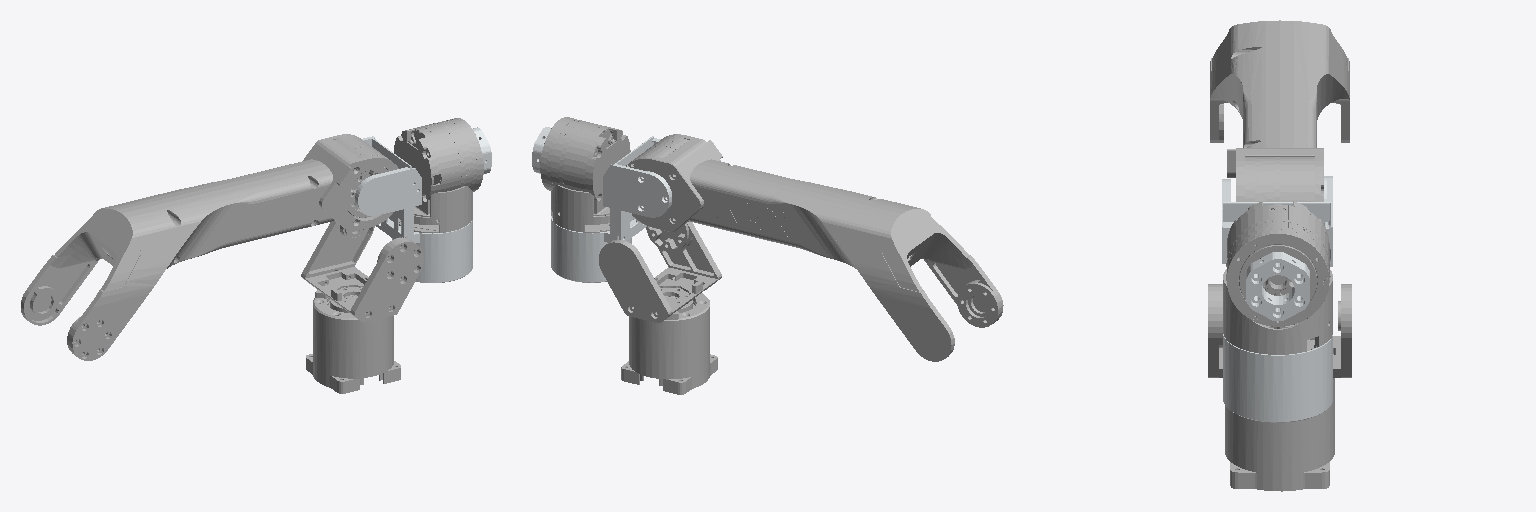
URDF robot description (ultron):
<?xml version="1.0" ?>
<!-- =================================================================================== -->
<!-- |    This document was autogenerated by xacro from ultron.xacro                   | -->
<!-- |    EDITING THIS FILE BY HAND IS NOT RECOMMENDED                                 | -->
<!-- =================================================================================== -->
<!-- This URDF was automatically created by SolidWorks to URDF Exporter! Originally created by
Stephen Brawner ([email redacted]) 
     Commit Version: 1.6.0-4-g7f85cfe  Build Version: 1.6.7995.38578
     For more information, please see http://wiki.ros.org/sw_urdf_exporter -->
<robot name="ultron">
  <!-- Used for fixing robot to Gazebo 'base_link' -->
  <link name="world"/>
  <joint name="fixed" type="fixed">
    <parent link="world"/>
    <child link="base_link"/>
  </joint>
  <!--base_link-->
  <link name="base_link">
    <inertial>
      <origin rpy="0 0 0" xyz="-2.9972E-05 3.056E-05 0.027301"/>
      <mass value="0.44038"/>
      <inertia ixx="0.00017" ixy="0.00000" ixz="0.00000" iyy="0.00018" iyz="0.00000" izz="0.00016"/>
    </inertial>
    <visual>
      <origin rpy="0 0 0" xyz="0 0 0"/>
      <geometry>
        <mesh filename="package://ultron/meshes/base_link.STL"/>
      </geometry>
      <material name="">
        <color rgba="0.75294 0.75294 0.75294 1"/>
      </material>
    </visual>
    <collision>
      <origin rpy="0 0 0" xyz="0 0 0"/>
      <geometry>
        <mesh filename="package://ultron/meshes/base_link.STL"/>
      </geometry>
    </collision>
  </link>
  <link name="link1">
    <inertial>
      <origin rpy="0 0 0" xyz="0.0060953 -0.0042968 0.017959"/>
      <mass value="0.060835"/>
      <inertia ixx="0.00008" ixy="0.00000" ixz="0.00001" iyy="0.00003" iyz="0.00000" izz="0.00007"/>
    </inertial>
    <visual>
      <origin rpy="0 0 0" xyz="0 0 0"/>
      <geometry>
        <mesh filename="package://ultron/meshes/link1.STL"/>
      </geometry>
      <material name="">
        <color rgba="0.75294 0.75294 0.75294 1"/>
      </material>
    </visual>
    <collision>
      <origin rpy="0 0 0" xyz="0 0 0"/>
      <geometry>
        <mesh filename="package://ultron/meshes/link1.STL"/>
      </geometry>
    </collision>
  </link>
  <joint name="joint1" type="revolute">
    <origin rpy="0 0 0" xyz="0 0 0.0603"/>
    <parent link="base_link"/>
    <child link="link1"/>
    <axis xyz="0 0 1"/>
    <limit effort="25.0" lower="-1.57" upper="1.57" velocity="10.0"/>
    <dynamics damping="0.1" friction="0.01"/>
  </joint>
  <link name="link2">
    <inertial>
      <origin rpy="0 0 0" xyz="-0.13238 0.0022038 0.00011179"/>
      <mass value="1.0733"/>
      <inertia ixx="0.00050" ixy="0.00000" ixz="-0.00004" iyy="0.01596" iyz="0.00000" izz="0.01602"/>
    </inertial>
    <visual>
      <origin rpy="0 0 0" xyz="0 0 0"/>
      <geometry>
        <mesh filename="package://ultron/meshes/link2.STL"/>
      </geometry>
      <material name="">
        <color rgba="0.75294 0.75294 0.75294 1"/>
      </material>
    </visual>
    <collision>
      <origin rpy="0 0 0" xyz="0 0 0"/>
      <geometry>
        <mesh filename="package://ultron/meshes/link2.STL"/>
      </geometry>
    </collision>
  </link>
  <joint name="joint2" type="revolute">
    <origin rpy="0 0 0" xyz="0.02 0 0.0402"/>
    <parent link="link1"/>
    <child link="link2"/>
    <axis xyz="0 1 0"/>
    <limit effort="25.0" lower="0." upper="3.14" velocity="10."/>
    <dynamics damping="0.1" friction="0.01"/>
  </joint>
  <link name="link3">
    <inertial>
      <origin rpy="0 0 0" xyz="0.1872 -0.00030568 -0.051483"/>
      <mass value="0.4994"/>
      <inertia ixx="0.00033" ixy="-0.00006" ixz="-0.00039" iyy="0.00387" iyz="0.00001" izz="0.00383"/>
    </inertial>
    <visual>
      <origin rpy="0 0 0" xyz="0 0 0"/>
      <geometry>
        <mesh filename="package://ultron/meshes/link3.STL"/>
      </geometry>
      <material name="">
        <color rgba="0.75294 0.75294 0.75294 1"/>
      </material>
    </visual>
    <collision>
      <origin rpy="0 0 0" xyz="0 0 0"/>
      <geometry>
        <mesh filename="package://ultron/meshes/link3.STL"/>
      </geometry>
    </collision>
  </link>
  <joint name="joint3" type="revolute">
    <origin rpy="-3.1416 0 0" xyz="-0.264 0 0"/>
    <parent link="link2"/>
    <child link="link3"/>
    <axis xyz="0 1 0"/>
    <limit effort="25." lower="0." upper="3.14" velocity="10."/>
    <dynamics damping="0.1" friction="0.01"/>
  </joint>
  <link name="link4">
    <inertial>
      <origin rpy="0 0 0" xyz="0.038888 0.0029517 -0.035328"/>
      <mass value="0.080971"/>
      <inertia ixx="0.00013" ixy="-0.00001" ixz="-0.00006" iyy="0.00016" iyz="0.00001" izz="0.00010"/>
    </inertial>
    <visual>
      <origin rpy="0 0 0" xyz="0 0 0"/>
      <geometry>
        <mesh filename="package://ultron/meshes/link4.STL"/>
      </geometry>
      <material name="">
        <color rgba="0.89804 0.91765 0.92941 1"/>
      </material>
    </visual>
    <collision>
      <origin rpy="0 0 0" xyz="0 0 0"/>
      <geometry>
        <mesh filename="package://ultron/meshes/link4.STL"/>
      </geometry>
    </collision>
  </link>
  <joint name="joint4" type="fixed">
    <origin rpy="3.1415926 0 0" xyz="0.245 0 -0.056"/>
    <parent link="link3"/>
    <child link="link4"/>
    <axis xyz="0 1 0"/>
    <limit effort="15.0" lower="-1.5" upper="1.5" velocity="10."/>
    <dynamics damping="0.1" friction="0.01"/>
  </joint>
  <link name="link5">
    <inertial>
      <origin rpy="0 0 0" xyz="0.0028996 3.1583E-05 0.052619"/>
      <mass value="0.60236"/>
      <inertia ixx="0.00072" ixy="0.00000" ixz="0.00005" iyy="0.00069" iyz="0.00000" izz="0.00021"/>
    </inertial>
    <visual>
      <origin rpy="0 0 0" xyz="0 0 0"/>
      <geometry>
        <mesh filename="package://ultron/meshes/link5.STL"/>
      </geometry>
      <material name="">
        <color rgba="0.75294 0.75294 0.75294 1"/>
      </material>
    </visual>
    <collision>
      <origin rpy="0 0 0" xyz="0 0 0"/>
      <geometry>
        <mesh filename="package://ultron/meshes/link5.STL"/>
      </geometry>
    </collision>
  </link>
  <joint name="joint5" type="fixed">
    <origin rpy="0 0 0" xyz="0.06575 -0.001 -0.0825"/>
    <parent link="link4"/>
    <child link="link5"/>
    <axis xyz="0 0 1"/>
    <limit effort="15.0" lower="-1.5" upper="1.5" velocity="10.0"/>
    <dynamics damping="0.1" friction="0.01"/>
  </joint>
  <link name="link6">
    <inertial>
      <origin rpy="0 0 0" xyz="0.0057417 4.26E-14 -2.498E-16"/>
      <mass value="0.019531"/>
      <inertia ixx="0.00000" ixy="0.00000" ixz="0.00000" iyy="0.00000" iyz="0.00000" izz="0.00000"/>
    </inertial>
    <visual>
      <origin rpy="0 0 0" xyz="0 0 0"/>
      <geometry>
        <mesh filename="package://ultron/meshes/link6.STL"/>
      </geometry>
      <material name="">
        <color rgba="0.89804 0.91765 0.92941 1"/>
      </material>
    </visual>
    <collision>
      <origin rpy="0 0 0" xyz="0 0 0"/>
      <geometry>
        <mesh filename="package://ultron/meshes/link6.STL"/>
      </geometry>
    </collision>
  </link>
  <joint name="joint6" type="fixed">
    <origin rpy="-3.1416 0 0" xyz="0.02845 0 0.0825"/>
    <parent link="link5"/>
    <child link="link6"/>
    <axis xyz="1 0 0"/>
    <limit effort="15." lower="-10" upper="10" velocity="10."/>
    <dynamics damping="0.1" friction="0.01"/>
  </joint>

  <!-- ros_control plugins -->
  <gazebo>
    <plugin filename="libgazebo_ros_control.so" name="gazebo_ros_control">
      <robotNamespace>/ultron</robotNamespace>
      <robotSimType>gazebo_ros_control/DefaultRobotHWSim</robotSimType>
      <legacyModeNS>true</legacyModeNS>
    </plugin>
    <plugin filename="libgazebo_ros_joint_state_publisher.so" name="joint_state_publisher">
      <!-- <robotNamespace>/robot_gazebo</robotNamespace> -->
      <jointName>joint1,joint2,joint3,joint4,joint5,joint6</jointName>
      <updateRate>50.0</updateRate>
      <alwaysOn>true</alwaysOn>
    </plugin>
  </gazebo>
</robot>

--- Render facts (derived) ---
3 views of the same robot in one strip: view 1: azimuth 30°, elevation 25°; view 2: azimuth 150°, elevation 25°; view 3: azimuth 270°, elevation 25° (orthographic).
Robot: ultron — 8 links, 7 joints (3 revolute, 4 fixed); root link world; default pose: all joints at 0.
Visible links, largest first — view 1: link3, link1, link5, link4, base_link; view 2: link3, link1, link5, link4, base_link; view 3: link3, link5, link4, base_link, link6, link1.
Link boxes in pixels (box(x1,y1,x2,y2)): link3: box(21, 134, 398, 360); link1: box(301, 221, 423, 322); link5: box(394, 118, 483, 233); link4: box(355, 136, 472, 282); base_link: box(306, 290, 400, 393); link3: box(626, 134, 1003, 361); link1: box(599, 222, 721, 322); link5: box(540, 117, 630, 232); link4: box(551, 136, 671, 282); base_link: box(621, 293, 717, 394); link3: box(1210, 20, 1349, 201); link5: box(1223, 201, 1332, 354); link4: box(1222, 176, 1332, 422); base_link: box(1225, 378, 1334, 491); link6: box(1246, 252, 1309, 320); link1: box(1208, 284, 1351, 377).
Size in the robot's own frame: 0.3684 by 0.0785 by 0.1846 metres.
6 mesh visuals loaded from 7 distinct referenced files (6 binary STL); not drawn: 1 (reference not matched to a file when rendering).
